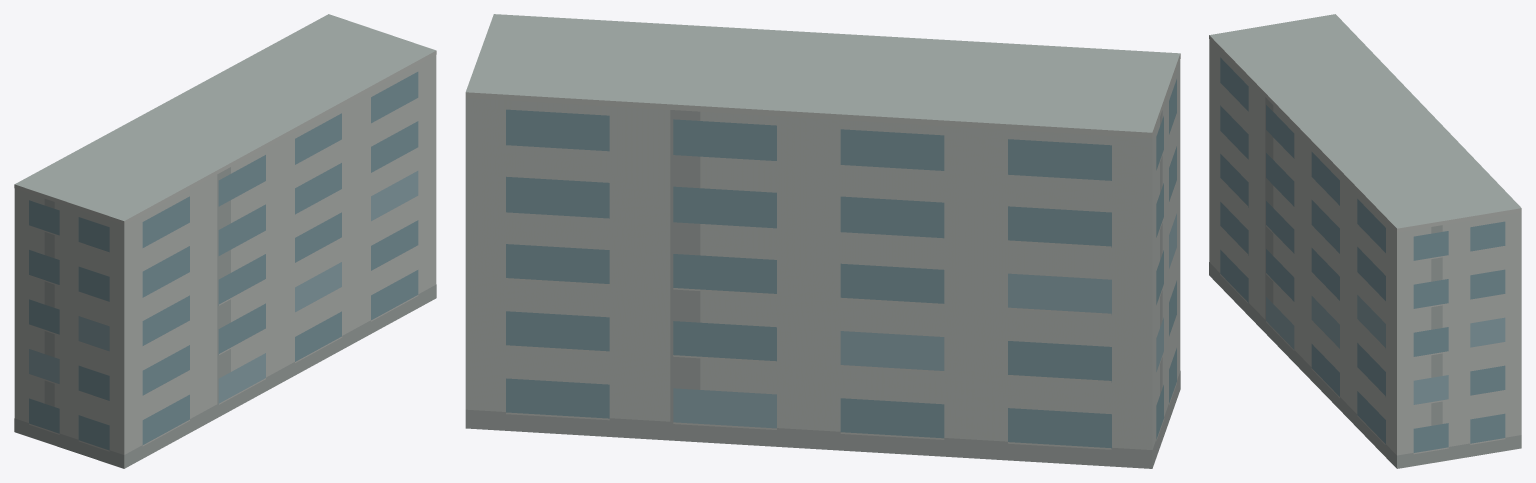
The model's file is survey-upis-32841280.glb.
3 renders of one model, left to right at view 1: azimuth 30°, elevation 25°; view 2: azimuth 150°, elevation 25°; view 3: azimuth 270°, elevation 25°, orthographic. The views are drawn at different scales.
Parts seen in each view (by area): view 1: survey-upis-32841280.tmp; view 2: survey-upis-32841280.tmp; view 3: survey-upis-32841280.tmp.
Part boxes in pixels (bbox=[...]): survey-upis-32841280.tmp: bbox=[14, 14, 436, 468]; survey-upis-32841280.tmp: bbox=[465, 14, 1180, 468]; survey-upis-32841280.tmp: bbox=[1209, 14, 1521, 468].
Bounding box in the file's own units: 28.37 × 14.8 × 17.46.
